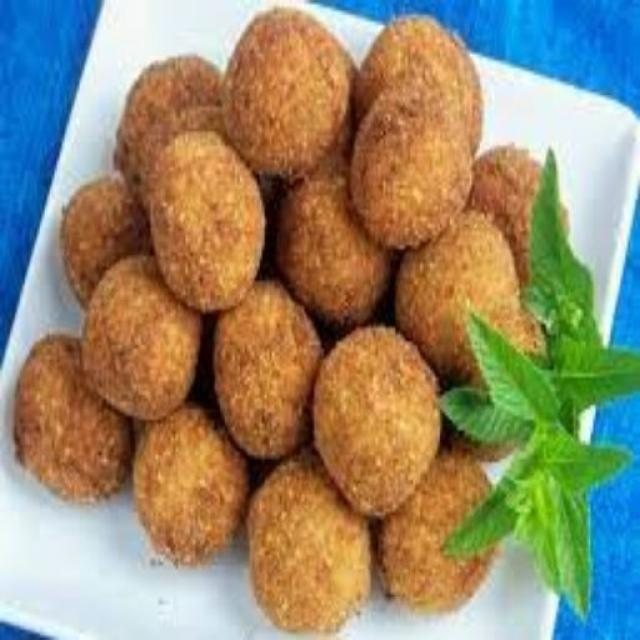Cutlet: (323, 349, 433, 492), (150, 154, 258, 284), (251, 494, 362, 618), (239, 36, 348, 154), (373, 106, 459, 238), (89, 301, 198, 398), (142, 434, 243, 534), (226, 324, 310, 422)
